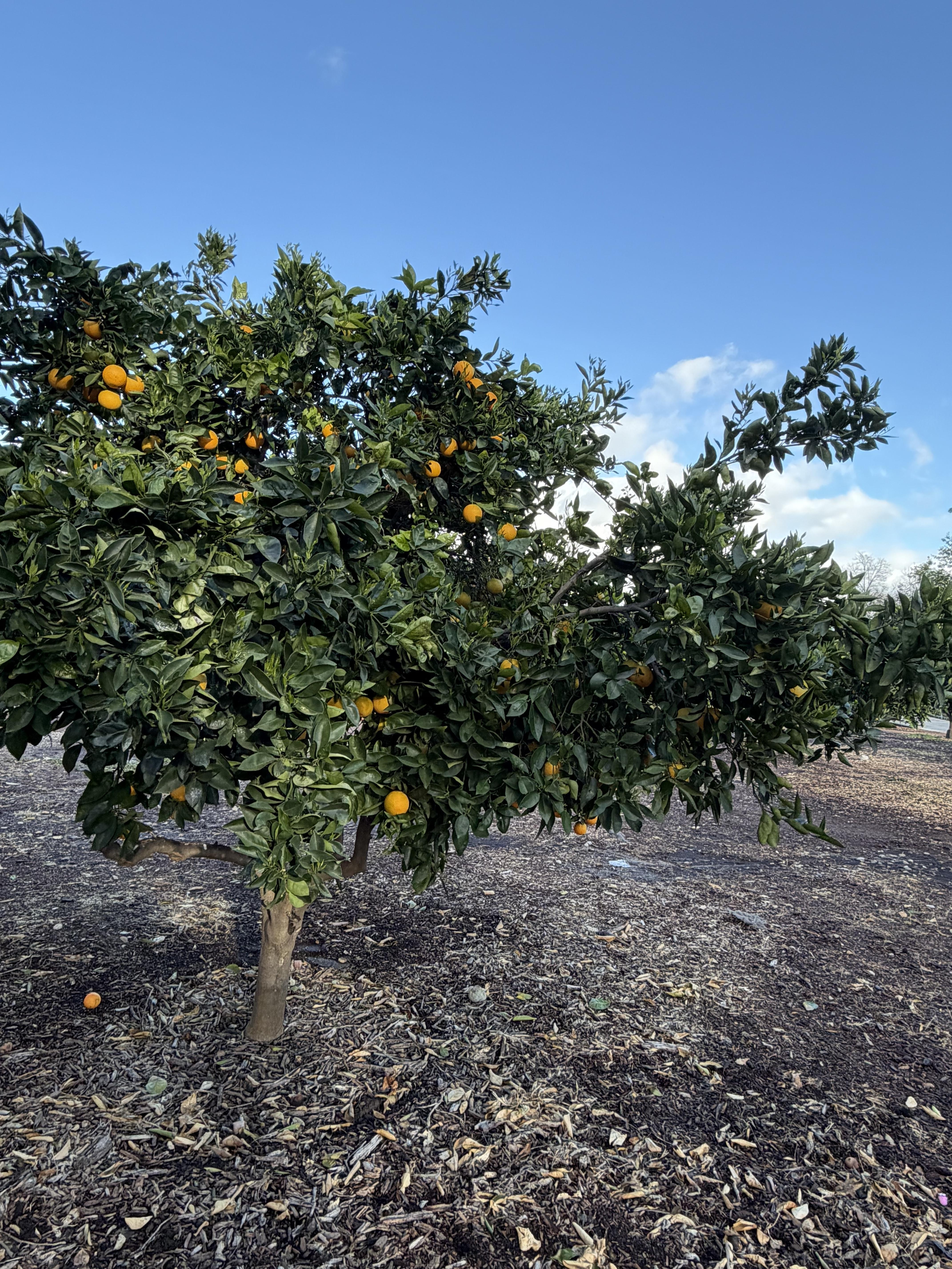orange: (384, 790, 409, 815), (48, 366, 75, 389), (102, 364, 127, 388), (629, 665, 654, 689), (753, 600, 782, 620), (696, 708, 720, 730), (98, 390, 122, 410), (452, 360, 474, 381), (85, 317, 105, 340), (499, 658, 519, 680), (462, 504, 483, 524), (82, 381, 102, 402), (122, 375, 143, 395), (354, 696, 373, 718), (667, 764, 689, 783), (199, 429, 218, 449), (498, 523, 517, 542), (440, 437, 458, 457), (245, 431, 264, 449), (486, 577, 504, 595), (790, 679, 808, 697), (424, 460, 441, 478), (142, 435, 161, 451), (169, 785, 186, 802), (373, 696, 389, 714), (455, 591, 470, 609), (413, 405, 429, 421), (192, 673, 207, 690), (542, 761, 560, 775), (322, 423, 340, 437), (495, 679, 511, 694), (327, 696, 344, 710), (234, 491, 252, 504), (486, 391, 498, 410), (235, 458, 249, 474), (216, 452, 228, 470), (457, 439, 476, 450), (467, 378, 484, 389), (573, 823, 587, 835), (345, 445, 357, 459), (240, 325, 254, 334), (585, 814, 597, 823), (490, 433, 503, 441), (92, 462, 102, 470), (131, 786, 138, 796), (511, 801, 519, 808), (554, 811, 562, 818)
